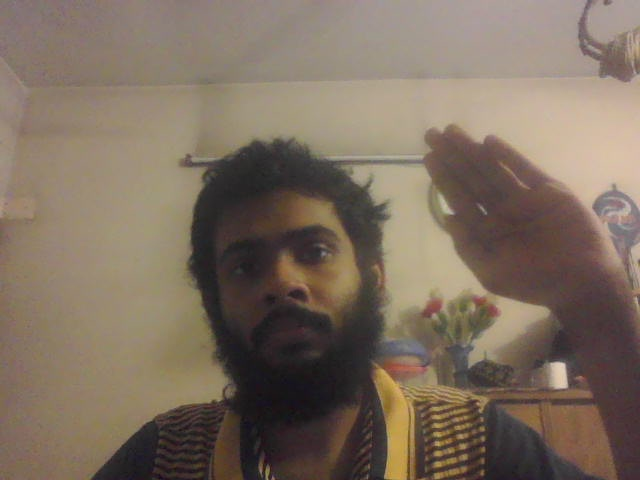Hello: (421, 125, 628, 308)
